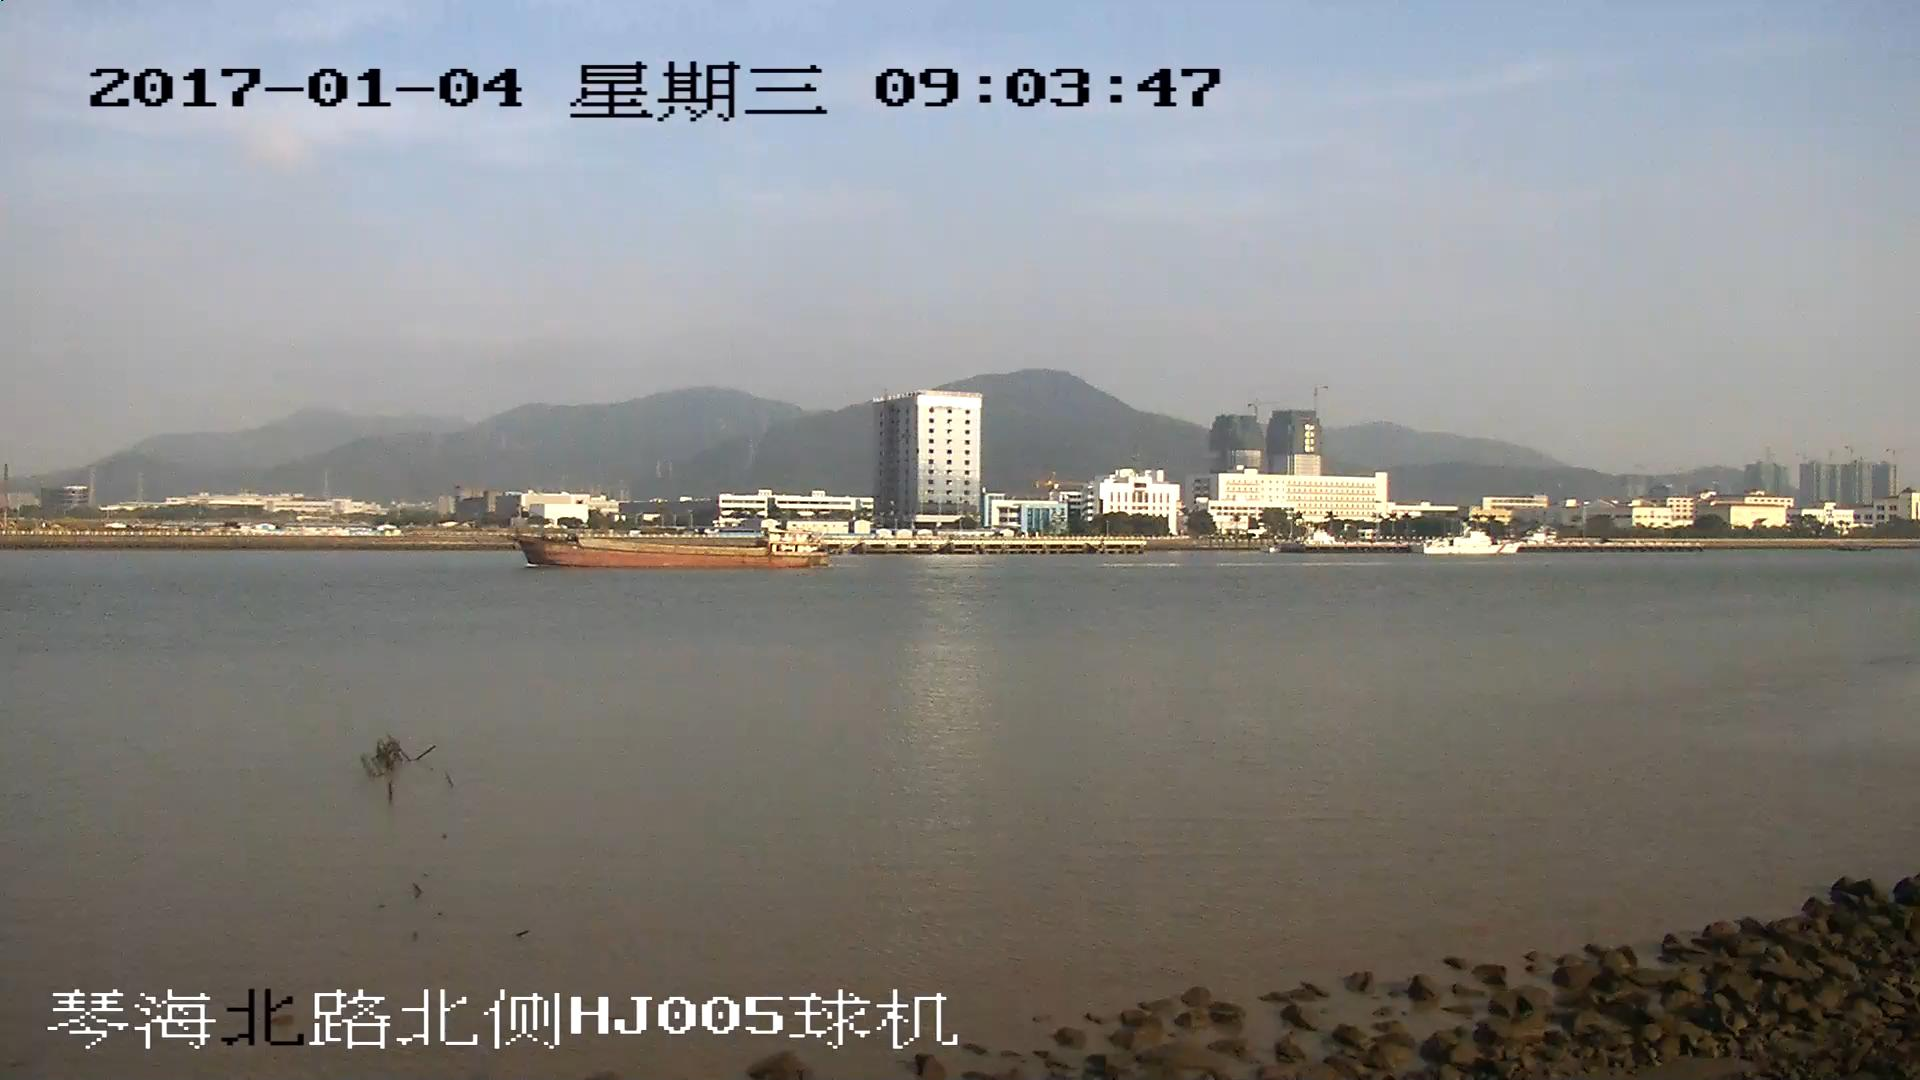bulk cargo carrier: (519, 518, 822, 568)
